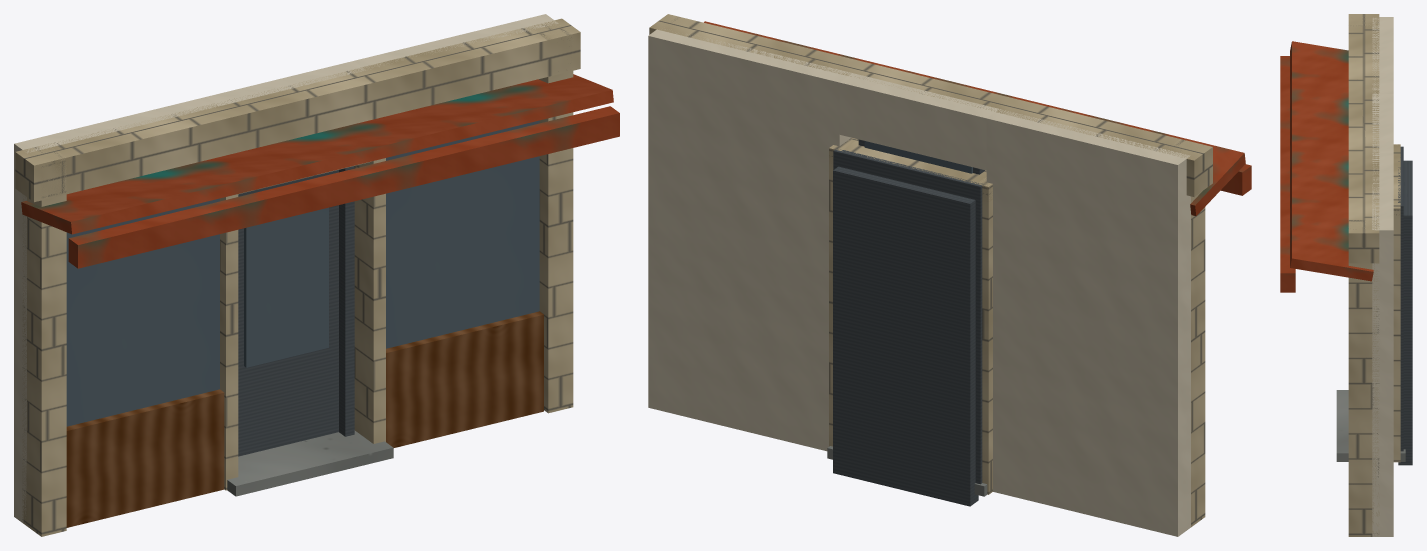
File: storefront-cafe.lod1.gltf
The picture shows the model from 3 angles, left to right: view 1: azimuth 30°, elevation 25°; view 2: azimuth 150°, elevation 25°; view 3: azimuth 270°, elevation 25°; orthographic projection. The views are drawn at different scales.
Visible parts, largest first — view 1: storefront-cafe; view 2: storefront-cafe; view 3: storefront-cafe.
Part boxes in pixels (x1=…): storefront-cafe: x1=14, y1=14, x2=619, y2=536; storefront-cafe: x1=648, y1=14, x2=1251, y2=536; storefront-cafe: x1=1280, y1=14, x2=1412, y2=536.
Bounding box in the file's own units: 4.37 × 2.92 × 1.12.
Materials: 7 (7 with a texture image).
